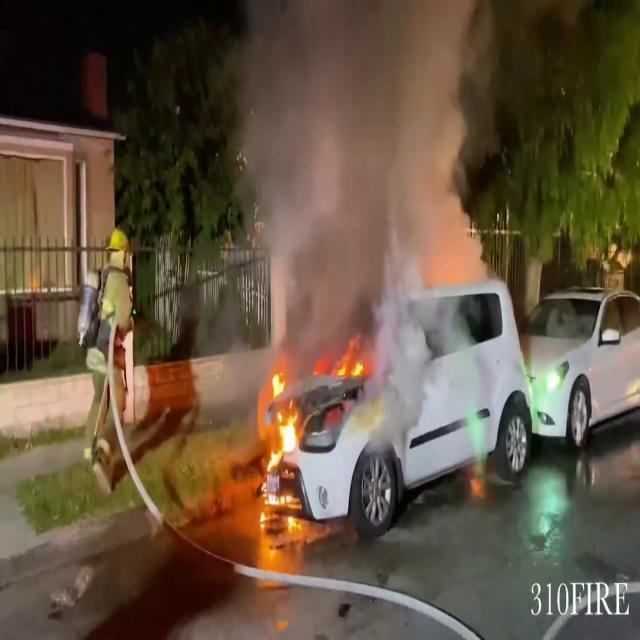Fire: (253, 362, 305, 516), (260, 364, 304, 468)
Smoke: (228, 0, 498, 386)
